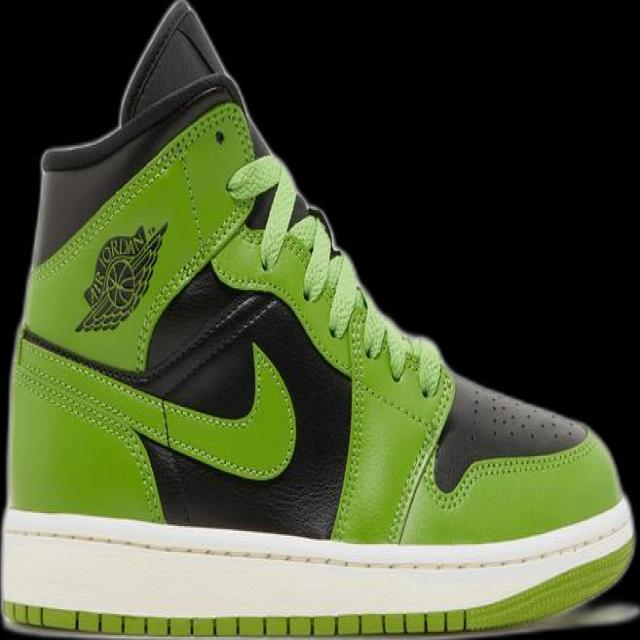J1_InsoleChar: (0, 0, 637, 639)
J1_ShoeLogo: (73, 219, 168, 333)
J1_StitchPattern: (1, 498, 635, 635), (221, 151, 435, 392), (13, 325, 298, 485), (2, 508, 635, 576), (12, 337, 169, 521), (1, 601, 467, 639), (465, 382, 581, 448)
